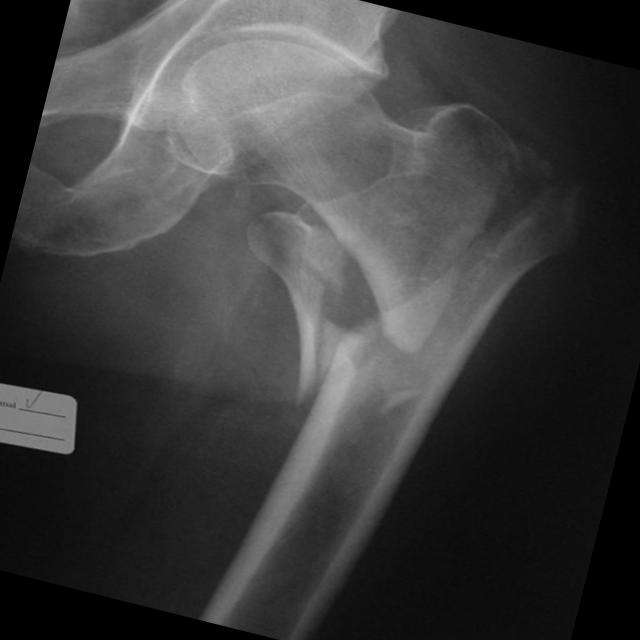left-intertrochanteric: (174, 38, 553, 352), (304, 179, 582, 454)
left-lesser-trochanter: (248, 212, 346, 406)
